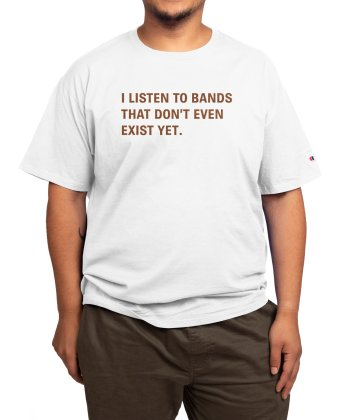design: (116, 87, 235, 140)
